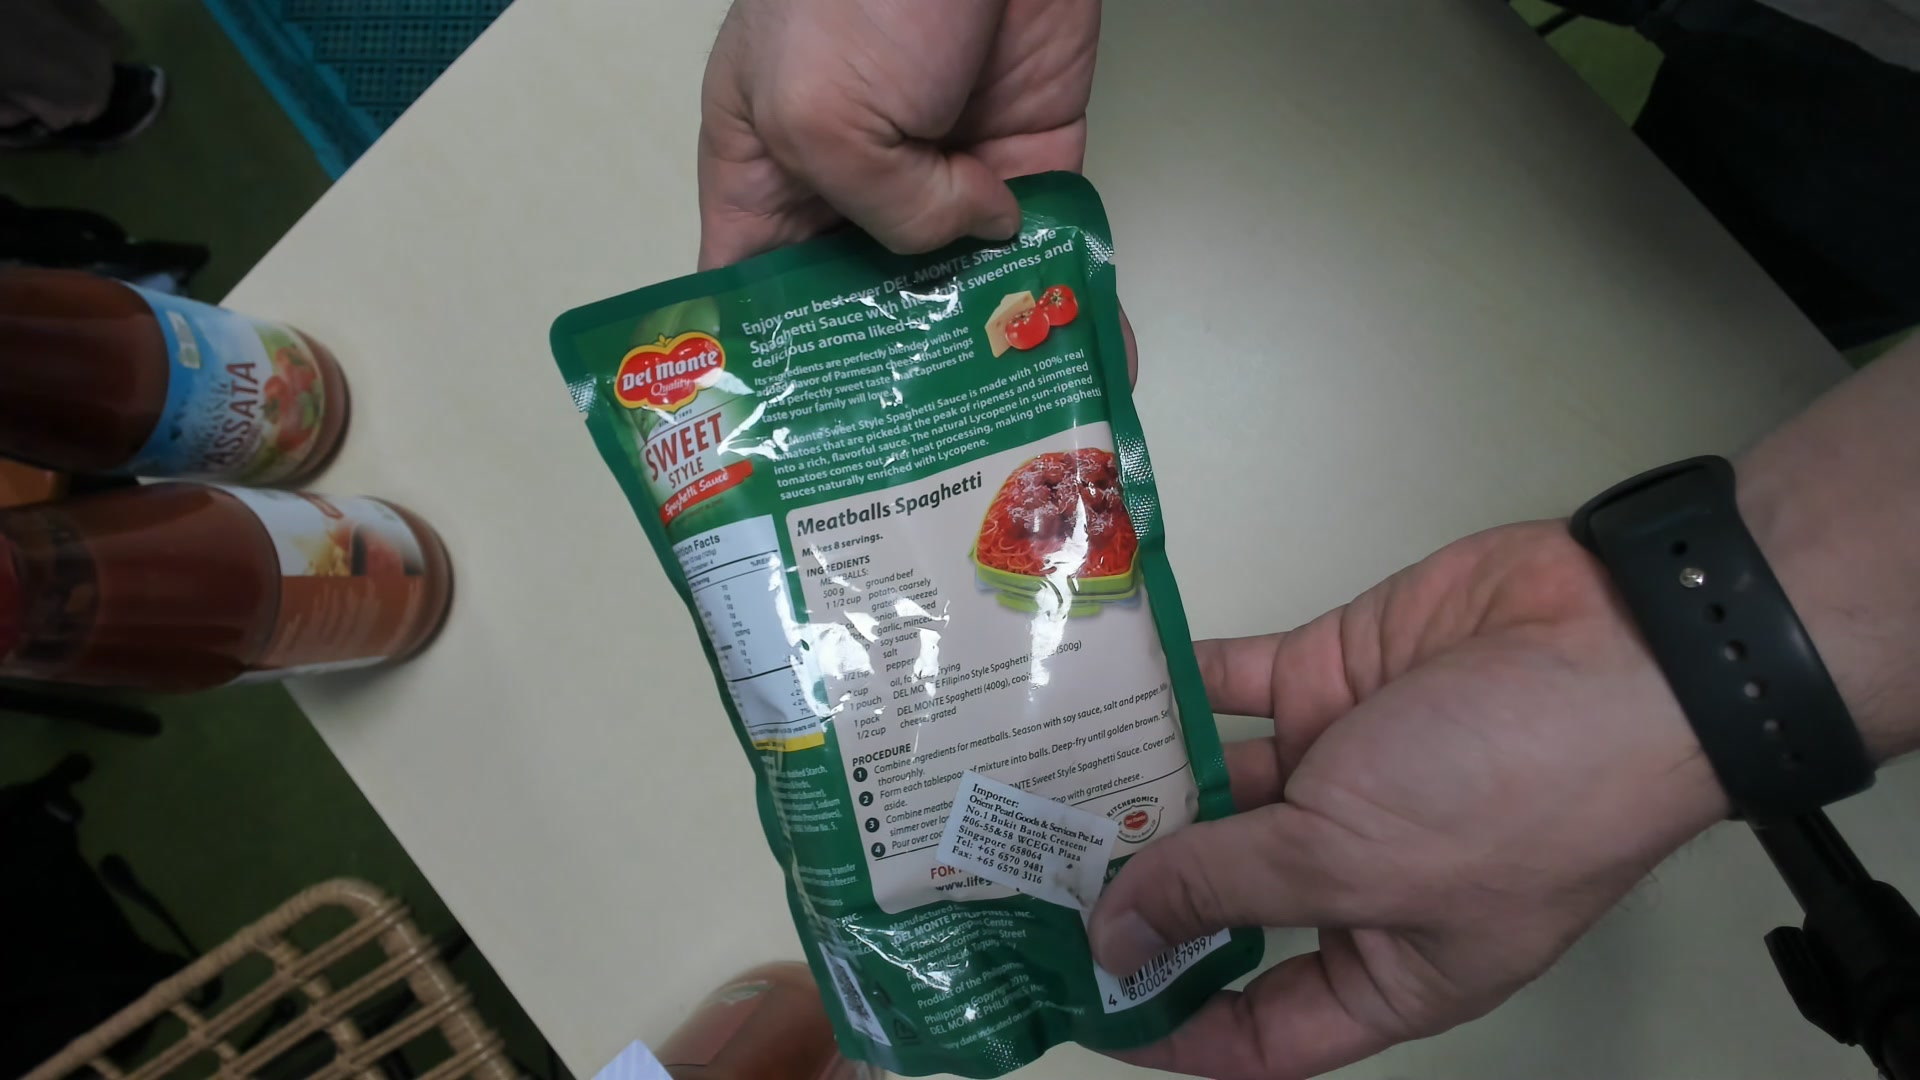PastaSauce_500-599g_Halal_NonHealthy: (588, 193, 1263, 1080)
